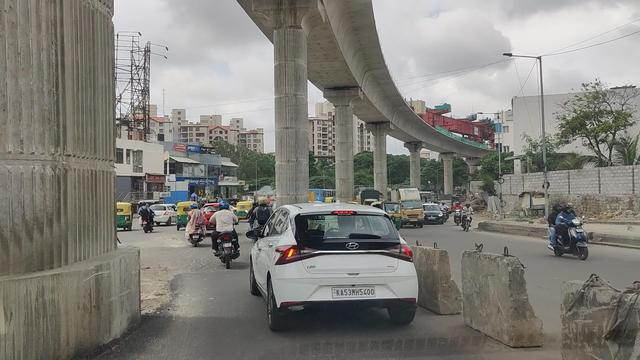LMV: (251, 200, 415, 328), (211, 201, 239, 264), (187, 205, 205, 247), (138, 203, 157, 232)
RoadDamages: (139, 260, 180, 318), (157, 235, 190, 252)
